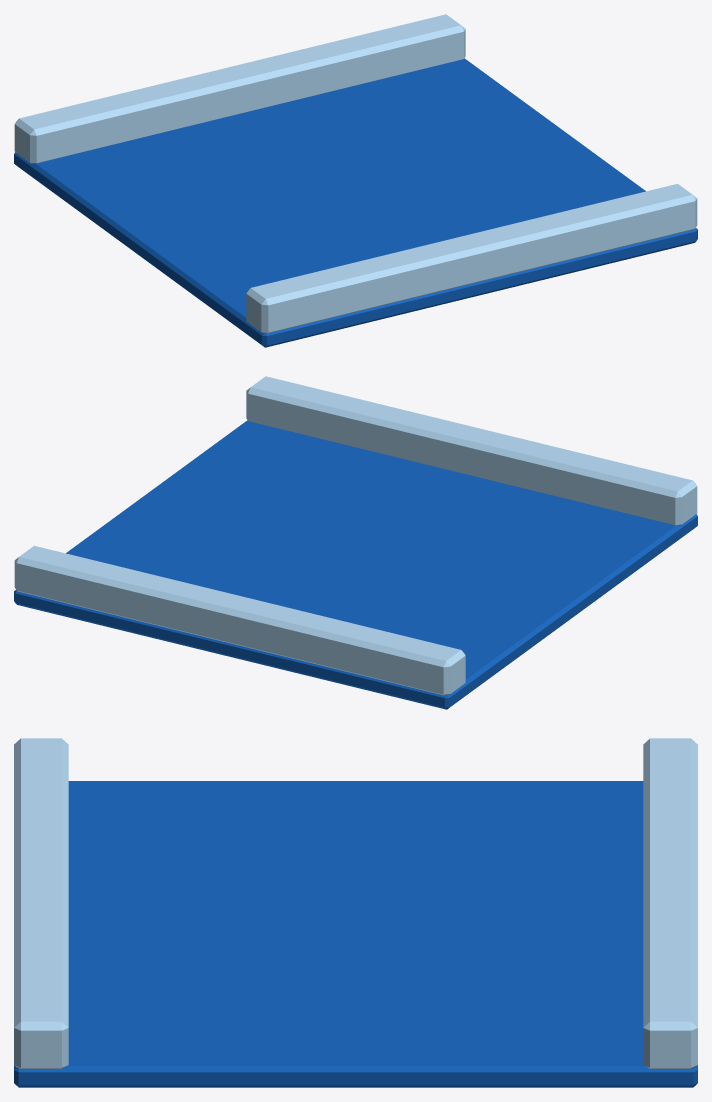
The model's file is Tile_Canal_TwoBanks_v001.fbx.
3 views of the same model, one above another, from view 1: azimuth 30°, elevation 25°; view 2: azimuth 150°, elevation 25°; view 3: azimuth 270°, elevation 25° (orthographic). The views are drawn at different scales.
Visible parts, largest first — view 1: Tile, Bank, Bank.001; view 2: Tile, Bank.001, Bank; view 3: Tile, Bank, Bank.001.
Boxes of the visible parts, bbox=[...] form: Tile: bbox=[14, 58, 697, 347]; Bank: bbox=[246, 183, 697, 333]; Bank.001: bbox=[14, 14, 465, 163]; Tile: bbox=[14, 420, 697, 709]; Bank.001: bbox=[14, 545, 465, 695]; Bank: bbox=[246, 376, 697, 525]; Tile: bbox=[14, 781, 697, 1087]; Bank: bbox=[14, 738, 68, 1068]; Bank.001: bbox=[643, 738, 697, 1068].
Bounding box in the file's own units: 100 × 10.5 × 100.
